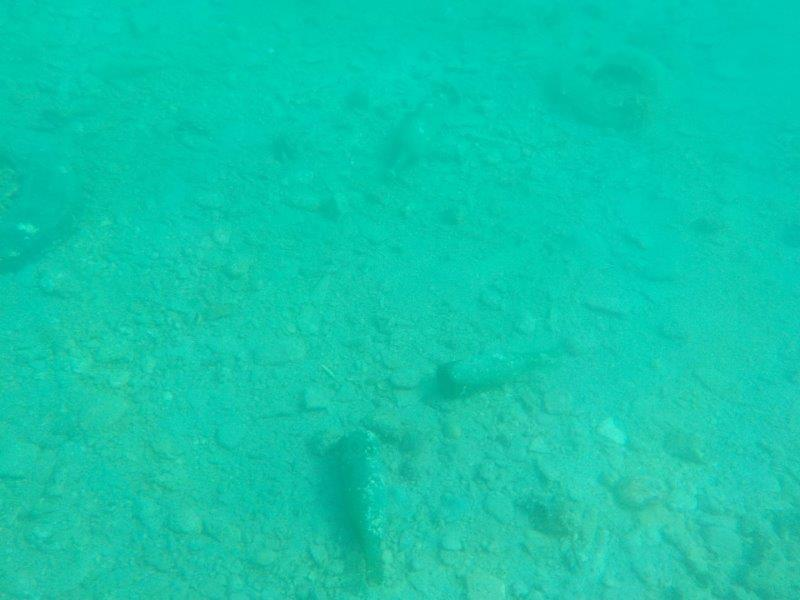bottle: (326, 421, 408, 595), (375, 90, 455, 198), (429, 342, 566, 402)
tire: (549, 37, 679, 134)
